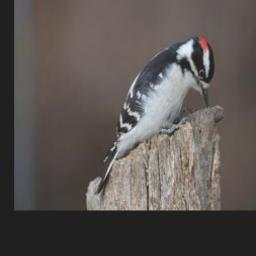Woodpecker: (93, 33, 217, 197)
